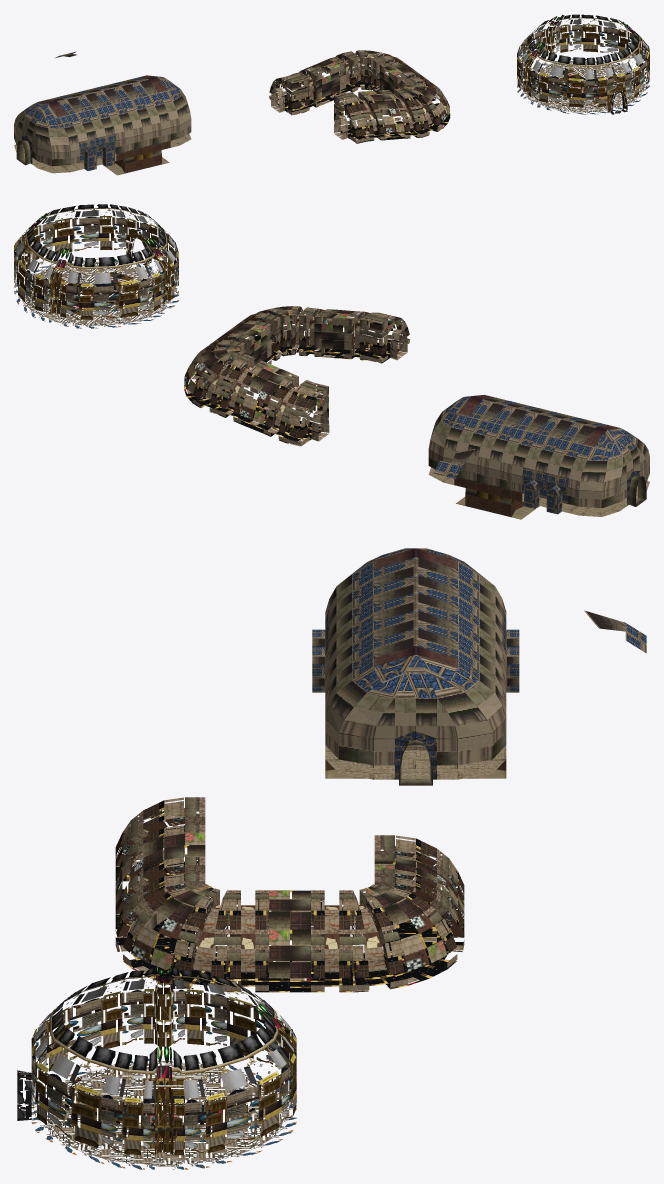
3 views of the same model, one above another, from view 1: azimuth 30°, elevation 25°; view 2: azimuth 150°, elevation 25°; view 3: azimuth 270°, elevation 25° (orthographic). The views are drawn at different scales.
Visible parts, largest first — view 1: T1L4M003_66, T1L4M003_71, T1L4M003_70, T1L4M003_72, T1L4M003_68, T1L4M003_69, T1L4M003_28, T1L4M003_47, T1L4M003_63, T1L4M003_60, T1L4M003_62, T1L4M003_180 (+41 smaller); view 2: T1L4M003_10, T1L4M003_5, T1L4M003_6, T1L4M003_28, T1L4M003_3, T1L4M003_4, T1L4M003_7, T1L4M003_112, T1L4M003_109, T1L4M003_111, T1L4M003_40, T1L4M003_84 (+39 smaller); view 3: T1L4M003_58, T1L4M003_39, T1L4M003_9, T1L4M003_21, T1L4M003_65, T1L4M003_80, T1L4M003_143, T1L4M003_77, T1L4M003_93, T1L4M003_134, T1L4M003_160, T1L4M003_131 (+39 smaller).
Part boxes in pixels (box(x1,y1,x2,y2)): T1L4M003_66: box(36, 127, 70, 173); T1L4M003_71: box(127, 108, 152, 171); T1L4M003_70: box(109, 112, 134, 175); T1L4M003_72: box(146, 103, 170, 166); T1L4M003_68: box(73, 121, 97, 170); T1L4M003_69: box(91, 116, 116, 166); T1L4M003_28: box(16, 102, 41, 165); T1L4M003_47: box(32, 103, 63, 168); T1L4M003_63: box(353, 50, 381, 90); T1L4M003_60: box(299, 69, 321, 112); T1L4M003_62: box(335, 54, 358, 95); T1L4M003_180: box(601, 75, 627, 114); T1L4M003_10: box(580, 447, 626, 516); T1L4M003_5: box(499, 441, 530, 519); T1L4M003_6: box(477, 435, 507, 514); T1L4M003_28: box(594, 436, 646, 506); T1L4M003_3: box(545, 452, 575, 514); T1L4M003_4: box(522, 446, 553, 508); T1L4M003_7: box(454, 429, 485, 508); T1L4M003_112: box(267, 308, 304, 356); T1L4M003_109: box(344, 314, 372, 360); T1L4M003_111: box(299, 311, 327, 356); T1L4M003_40: box(295, 387, 329, 441); T1L4M003_84: box(66, 285, 95, 328); T1L4M003_58: box(329, 667, 394, 779); T1L4M003_39: box(368, 667, 436, 785); T1L4M003_9: box(448, 680, 506, 779); T1L4M003_21: box(416, 654, 478, 779); T1L4M003_65: box(353, 925, 407, 992); T1L4M003_80: box(269, 929, 310, 992); T1L4M003_143: box(143, 1100, 184, 1169); T1L4M003_77: box(311, 929, 352, 992); T1L4M003_93: box(227, 929, 268, 992); T1L4M003_134: box(143, 991, 184, 1069); T1L4M003_160: box(101, 1097, 143, 1169); T1L4M003_131: box(149, 903, 205, 989).
Bounding box in the file's own units: 123 × 14.31 × 60.
